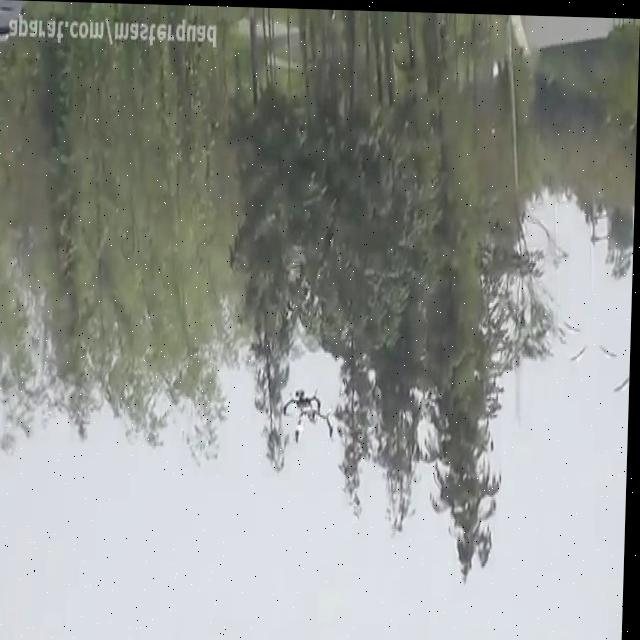drone: (276, 386, 341, 449)
